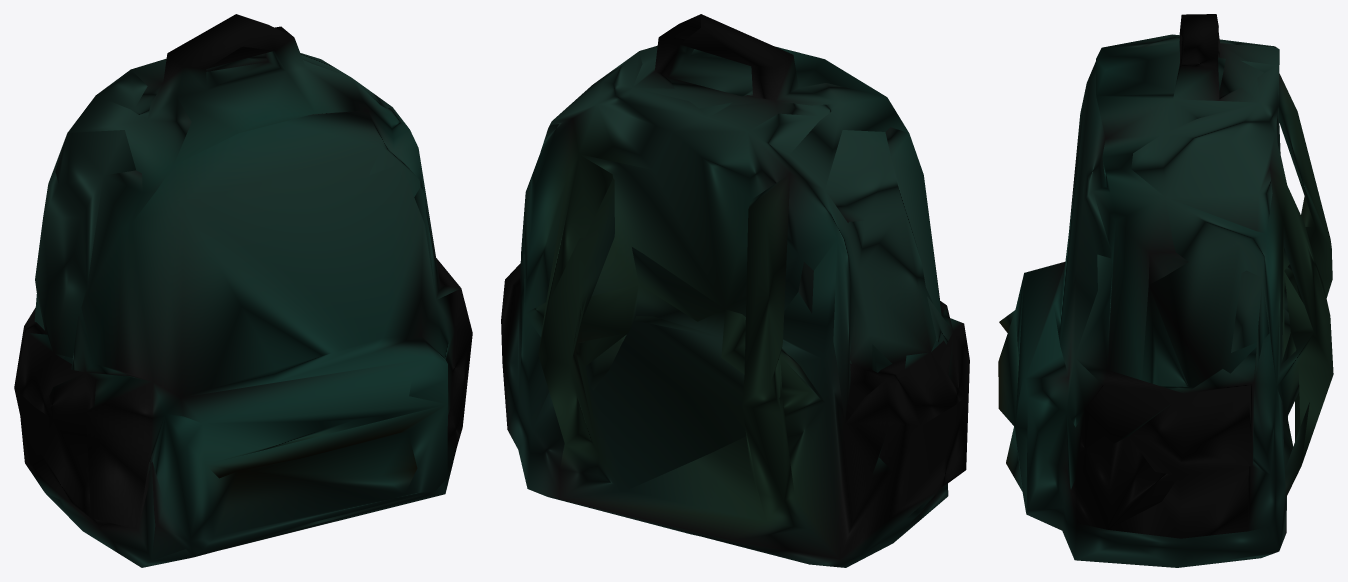
The model's file is gen3d-backpack-lod1.glb.
3 views of the same model, side by side, from view 1: azimuth 30°, elevation 25°; view 2: azimuth 150°, elevation 25°; view 3: azimuth 270°, elevation 25° (orthographic). The views are drawn at different scales.
Visible parts, largest first — view 1: part_0; view 2: part_0; view 3: part_0.
Boxes of the visible parts, x1=… form: part_0: x1=14, y1=14, x2=472, y2=567; part_0: x1=501, y1=14, x2=969, y2=567; part_0: x1=998, y1=14, x2=1333, y2=567.
Size of the model in its own units: 0.9198 by 0.9933 by 0.6332.
